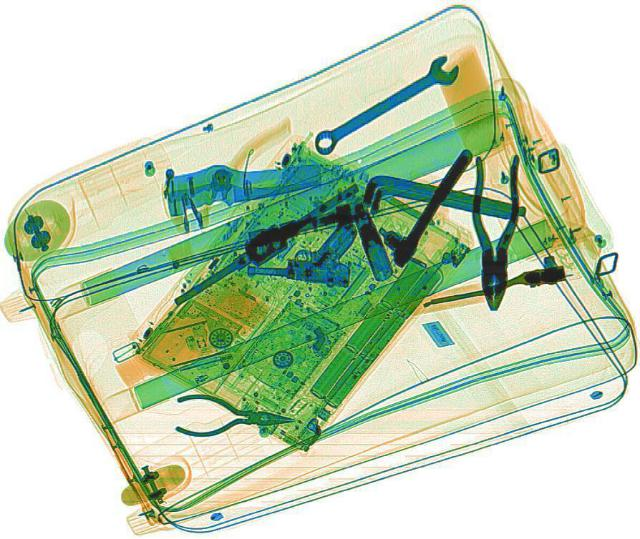Gun: (242, 212, 360, 287)
Pliers: (470, 154, 518, 309), (172, 391, 294, 441)
Wrench: (302, 49, 468, 159)
